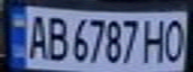6: (66, 15, 90, 63)
7: (121, 16, 142, 64), (87, 16, 106, 63)
8: (103, 16, 124, 64)
A: (21, 11, 51, 61)
B: (42, 12, 69, 62)
H: (139, 16, 172, 64)
O: (160, 15, 190, 63)
